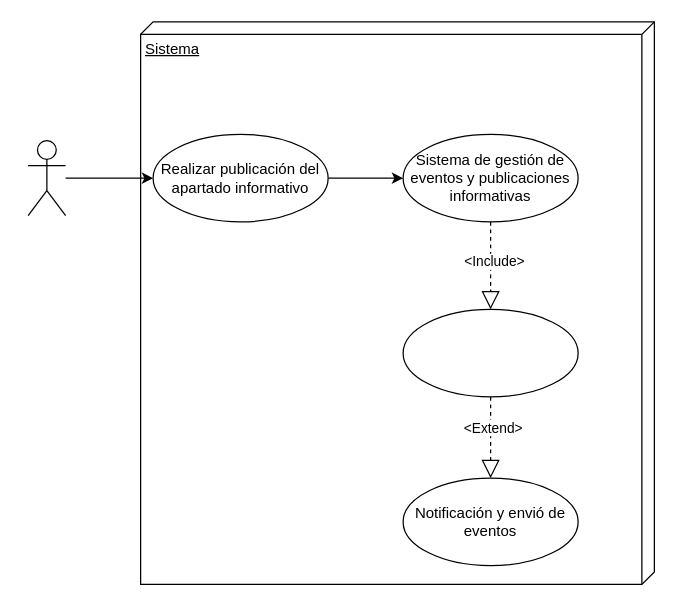
This 676x606 diagram has some shape labels left out. Here are the shapes that lost their labels. From the top down, the box of each, then its label:
(27, 139, 66, 216): Usuario ASODI
(402, 308, 578, 397): Base de datos de publicaciones informativas
